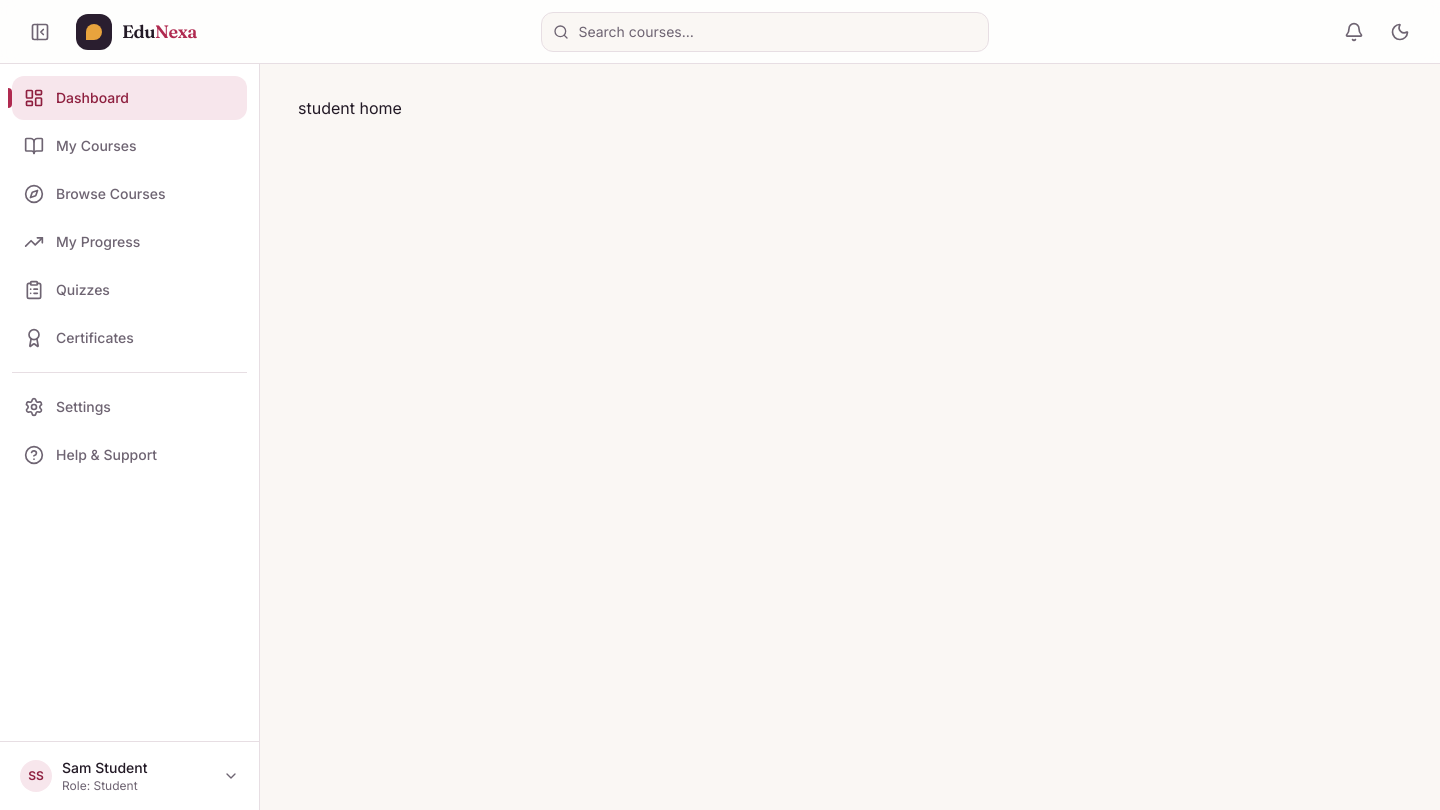
Sidebar navigation › collapses to icons only and remembers the choice
Click the button named "Collapse sidebar" at (40, 32), box 20,12 -> 60,52
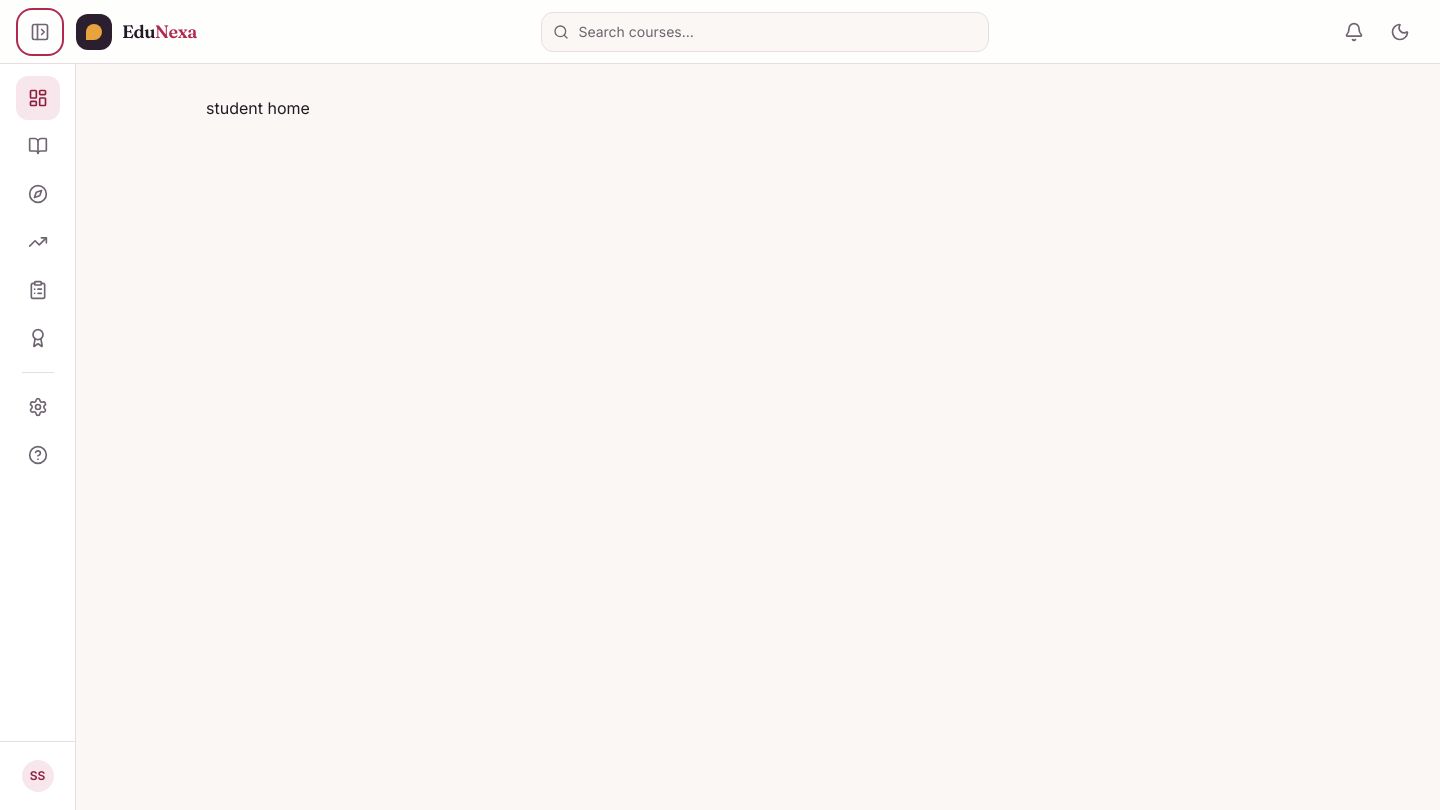
expect the link named "Dashboard" is shown: met, box 16,76 -> 60,120
expect the link "Dashboard" is gone: met
expect the button named "Expand sidebar" is shown: met, box 20,12 -> 60,52
